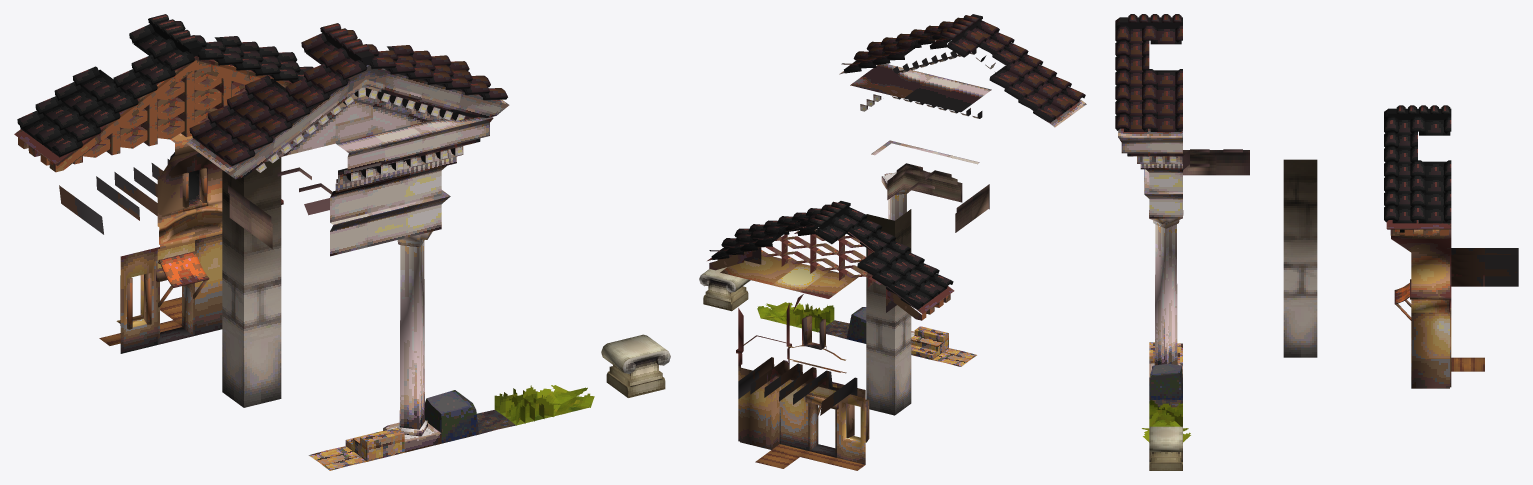
File: tiles.glb
3 renders of one model, left to right at view 1: azimuth 30°, elevation 25°; view 2: azimuth 150°, elevation 25°; view 3: azimuth 270°, elevation 25°, orthographic. The views are drawn at different scales.
Visible parts, largest first — view 1: temple_wall-col, pillar_00, temple_roof_border_corner, temple_roof_border_wall_00, temple_roof_border_wall_01, 52_peasant_wall_window, 40_peasant_roof_border_center, 38_peasant_roof_border_inner_inverse, 32_peasant_roof_border_wall_01, temple_roof_border_center, 53_peasant_wall_doorway, tower_pillar_00 (+26 smaller); view 2: temple_wall-col, 54_peasant_wall_corner, 52_peasant_wall_window, temple_roof_border_corner, 30_peasant_roof_border_corner, 51_peasant_wall, 44_peasant_roof_end_inverse, tower_pillar_00, 53_peasant_wall_doorway, 38_peasant_roof_border_inner_inverse, 31_peasant_roof_border_wall_00, 32_peasant_roof_border_wall_01 (+38 smaller); view 3: temple_wall-col, 30_peasant_roof_border_corner, pillar_00, temple_roof_border_corner, 54_peasant_wall_corner, tower_pillar_00, 33_peasant_roof_border_end_00, 43_peasant_roof_end, temple_roof_border_end_00, temple_roof_end, stone_00, 41_peasant_roof (+17 smaller).
Boxes of the visible parts, left/top/right/bottom form: temple_wall-col: left=222, top=157, right=281, bottom=407; pillar_00: left=383, top=231, right=441, bottom=452; temple_roof_border_corner: left=404, top=116, right=493, bottom=237; temple_roof_border_wall_00: left=367, top=125, right=423, bottom=247; temple_roof_border_wall_01: left=330, top=134, right=385, bottom=256; 52_peasant_wall_window: left=99, top=247, right=157, bottom=353; 40_peasant_roof_border_center: left=150, top=30, right=223, bottom=119; 38_peasant_roof_border_inner_inverse: left=113, top=55, right=177, bottom=148; 32_peasant_roof_border_wall_01: left=157, top=133, right=198, bottom=248; temple_roof_border_center: left=323, top=38, right=396, bottom=123; 53_peasant_wall_doorway: left=156, top=240, right=209, bottom=344; tower_pillar_00: left=601, top=334, right=670, bottom=397; temple_wall-col: left=866, top=209, right=911, bottom=415; 54_peasant_wall_corner: left=738, top=361, right=789, bottom=449; 52_peasant_wall_window: left=829, top=383, right=869, bottom=470; temple_roof_border_corner: left=850, top=64, right=934, bottom=155; 30_peasant_roof_border_corner: left=720, top=255, right=800, bottom=366; 51_peasant_wall: left=772, top=379, right=808, bottom=456; 44_peasant_roof_end_inverse: left=886, top=273, right=938, bottom=320; tower_pillar_00: left=699, top=267, right=750, bottom=311; 53_peasant_wall_doorway: left=800, top=382, right=838, bottom=463; 38_peasant_roof_border_inner_inverse: left=847, top=218, right=895, bottom=287; 31_peasant_roof_border_wall_00: left=772, top=263, right=829, bottom=366; 32_peasant_roof_border_wall_01: left=800, top=270, right=857, bottom=373; temple_wall-col: left=1283, top=159, right=1317, bottom=357; 30_peasant_roof_border_corner: left=1391, top=229, right=1451, bottom=312; pillar_00: left=1149, top=210, right=1183, bottom=384; temple_roof_border_corner: left=1119, top=139, right=1182, bottom=218; 54_peasant_wall_corner: left=1411, top=311, right=1451, bottom=388; tower_pillar_00: left=1149, top=426, right=1182, bottom=470; 33_peasant_roof_border_end_00: left=1384, top=190, right=1417, bottom=235; 43_peasant_roof_end: left=1418, top=190, right=1451, bottom=235; temple_roof_border_end_00: left=1115, top=99, right=1149, bottom=141; temple_roof_end: left=1149, top=99, right=1182, bottom=141; stone_00: left=1149, top=363, right=1182, bottom=399; 41_peasant_roof: left=1418, top=160, right=1451, bottom=193.
Size of what is drawn, in the model's own units: 12.43 by 10.98 by 12.01.
7 materials, 7 textured.
